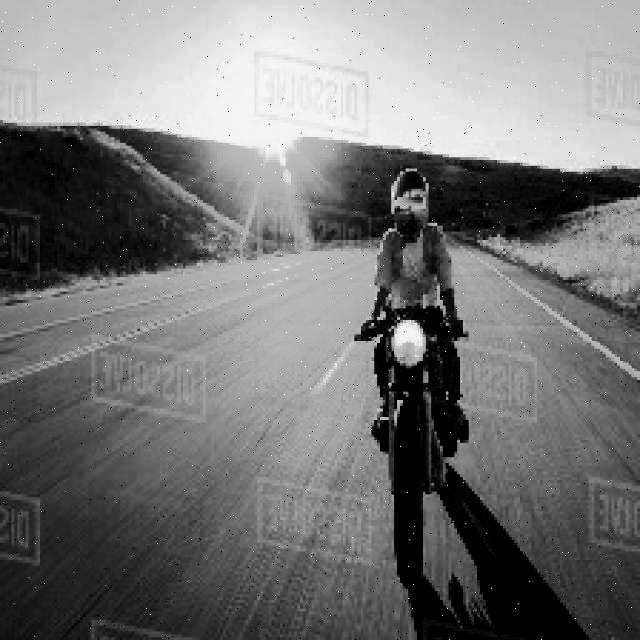Bike: (374, 290, 454, 574)
